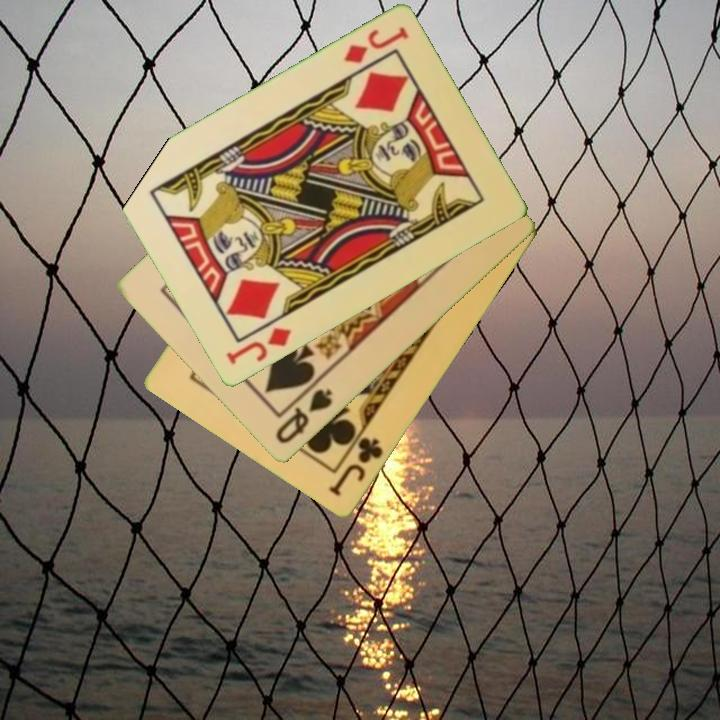Jc: (325, 433, 387, 500)
Jd: (339, 23, 412, 68), (222, 324, 294, 369)
Qs: (272, 385, 335, 447)
